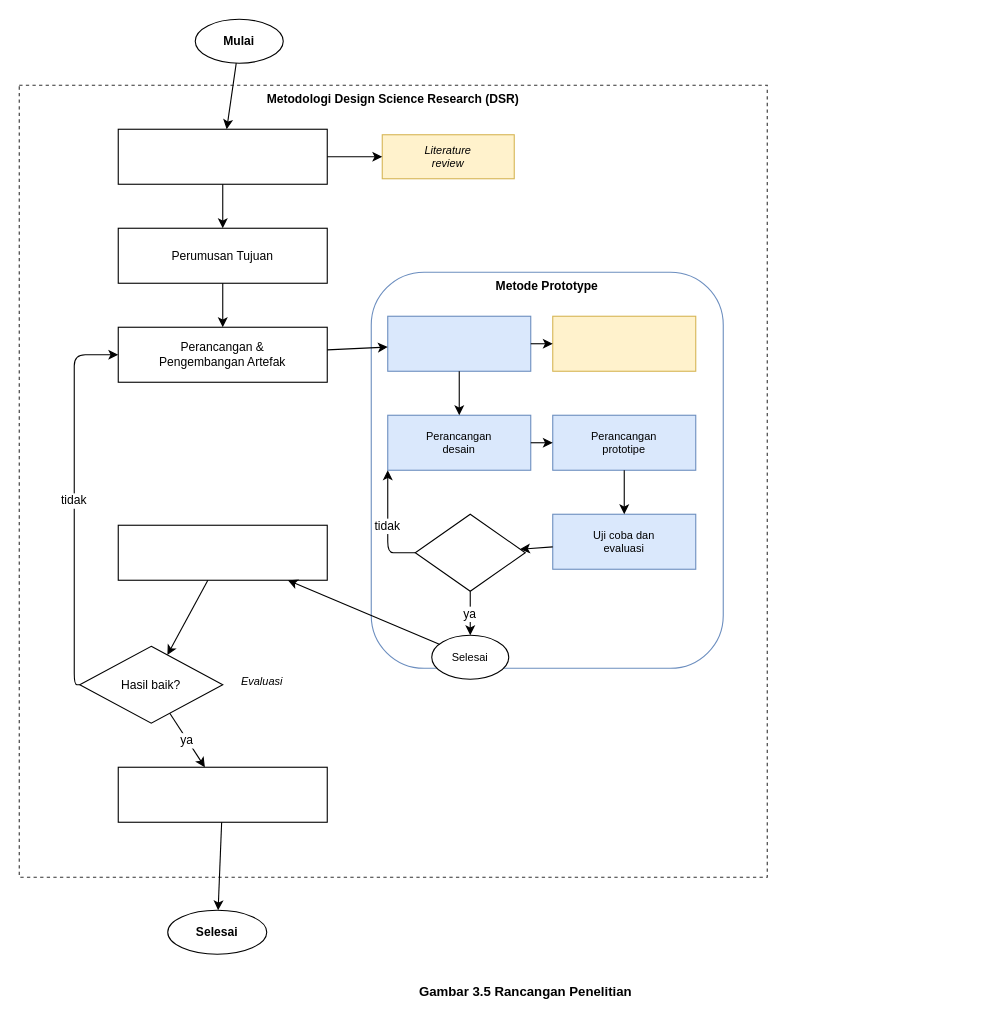
This 985x1029 diagram has some shape labels left out. The shapes that lost their labels are listed below. From the top down, each one's box as (x1, y1, x2, y2) in pixels, then its label:
(117, 128, 327, 184): Identifikasi Masalah
(387, 315, 531, 371): Pengumpulan kebutuhan
(552, 315, 696, 371): Web crawling, scraping, dan Kuesioner
(117, 524, 327, 580): Demonstrasi
(414, 513, 525, 591): Hasil Sesuai?
(117, 766, 327, 822): Komunikasi
